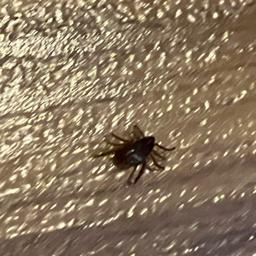Rhipicephalus sanguineus: (94, 125, 175, 186)
